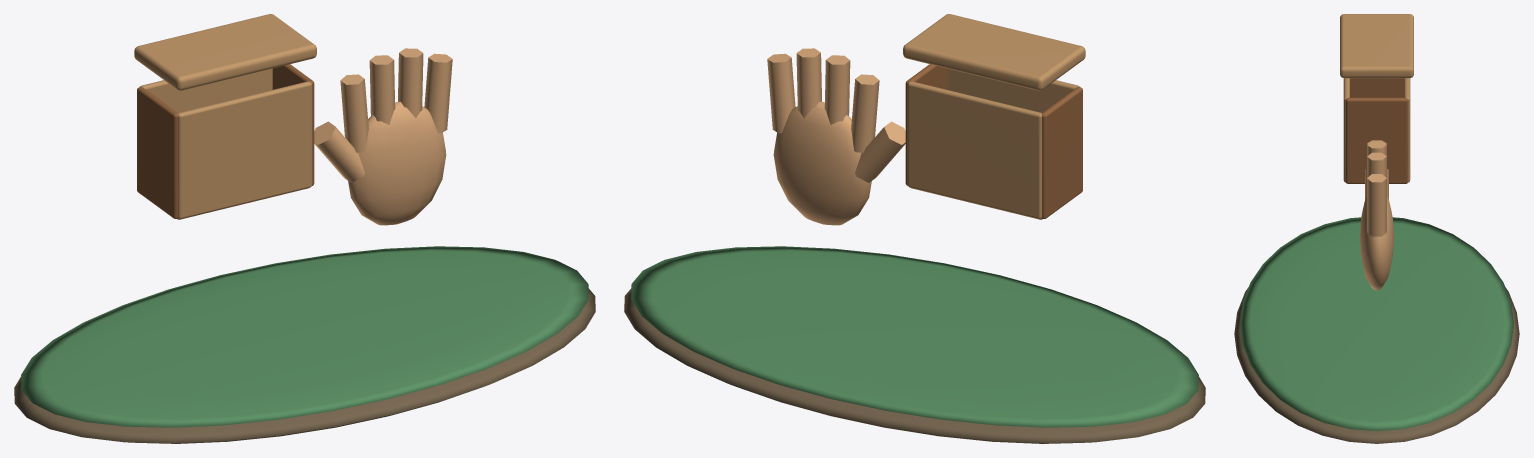
Rendered from holding-fit.glb.
3 views of the same model, side by side, from view 1: azimuth 30°, elevation 25°; view 2: azimuth 150°, elevation 25°; view 3: azimuth 270°, elevation 25° (orthographic). The views are drawn at different scales.
Parts seen in each view (by area): view 1: holding-fit_surface_01, holding-fit_surface_02, holding-fit_surface_04, holding-fit_surface_00, holding-fit_surface_03; view 2: holding-fit_surface_01, holding-fit_surface_02, holding-fit_surface_04, holding-fit_surface_00, holding-fit_surface_03; view 3: holding-fit_surface_01, holding-fit_surface_03, holding-fit_surface_02, holding-fit_surface_00, holding-fit_surface_04.
Boxes of the visible parts, box(x1,y1,x2,y2) form: holding-fit_surface_01: box(21, 246, 588, 427); holding-fit_surface_02: box(134, 14, 316, 219); holding-fit_surface_04: box(314, 48, 452, 225); holding-fit_surface_00: box(14, 288, 595, 443); holding-fit_surface_03: box(137, 64, 314, 219); holding-fit_surface_01: box(631, 246, 1198, 427); holding-fit_surface_02: box(903, 14, 1085, 219); holding-fit_surface_04: box(767, 48, 905, 225); holding-fit_surface_00: box(624, 288, 1205, 443); holding-fit_surface_03: box(905, 64, 1082, 219); holding-fit_surface_01: box(1240, 217, 1513, 431); holding-fit_surface_03: box(1345, 78, 1408, 183); holding-fit_surface_02: box(1340, 14, 1413, 182); holding-fit_surface_00: box(1234, 287, 1519, 443); holding-fit_surface_04: box(1360, 140, 1393, 290).
Size of the model in its own units: 4.56 by 2.67 by 2.5.
